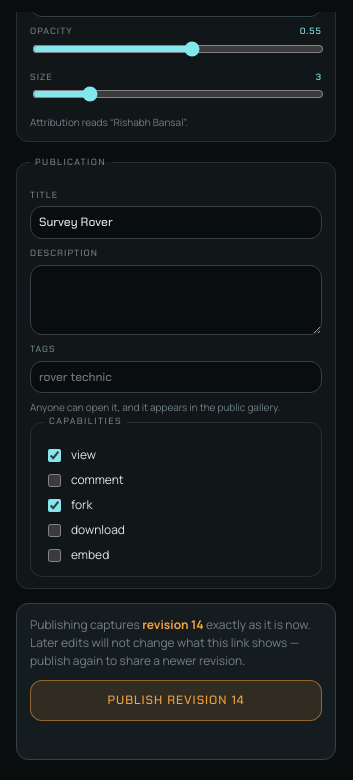
Scenario: share studio › reports a publish failure instead of claiming success
(page scrolled)
Click the button with test id "publish-button": [176, 701] box [30, 680, 322, 721]
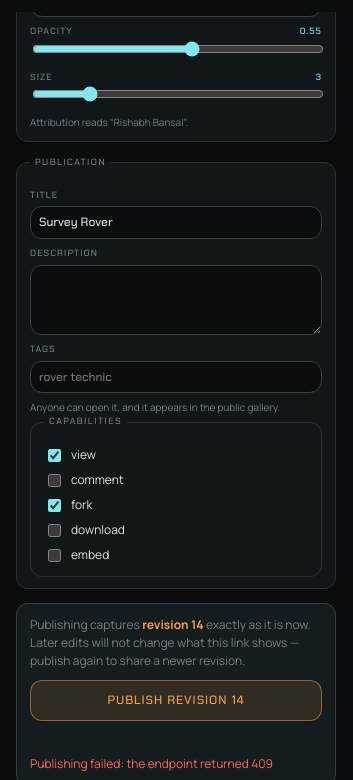
Expected: the message with test id "publish-error" shows "409", [126, 755, 273, 772]
